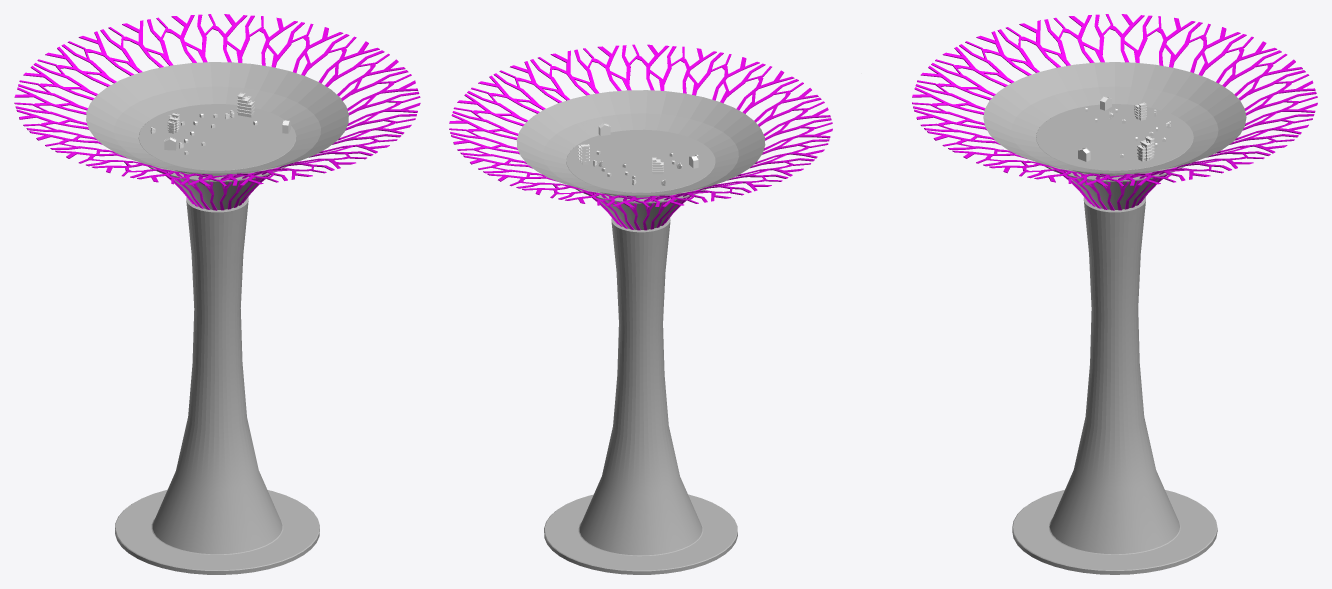
Rendered from toureasttest.gltf.
3 renders of one model, left to right at view 1: azimuth 30°, elevation 25°; view 2: azimuth 150°, elevation 25°; view 3: azimuth 270°, elevation 25°, orthographic. The views are drawn at different scales.
Visible parts, largest first — view 1: GardensOnTheBay, GardensOnTheBay.002; view 2: GardensOnTheBay, GardensOnTheBay.002; view 3: GardensOnTheBay, GardensOnTheBay.002.
Part boxes in pixels (left/top/right/bottom): GardensOnTheBay: left=14, top=14, right=420, bottom=574; GardensOnTheBay.002: left=86, top=62, right=348, bottom=174; GardensOnTheBay: left=449, top=44, right=832, bottom=574; GardensOnTheBay.002: left=516, top=90, right=765, bottom=195; GardensOnTheBay: left=912, top=14, right=1317, bottom=574; GardensOnTheBay.002: left=983, top=62, right=1246, bottom=174.
Bounding box in the file's own units: 1181 × 1469 × 1329.
